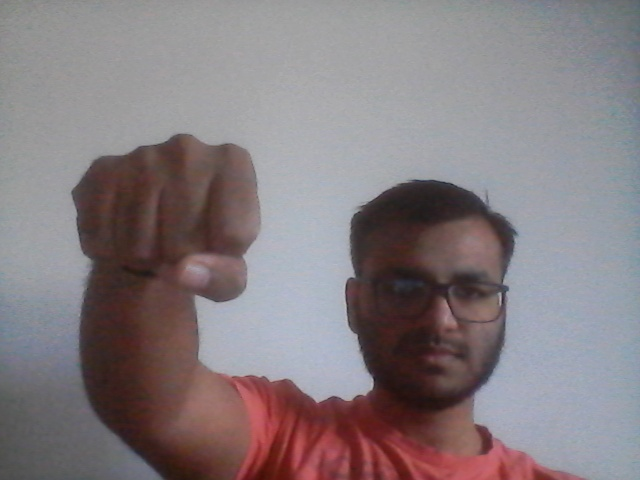Thanks: (50, 131, 279, 304)
